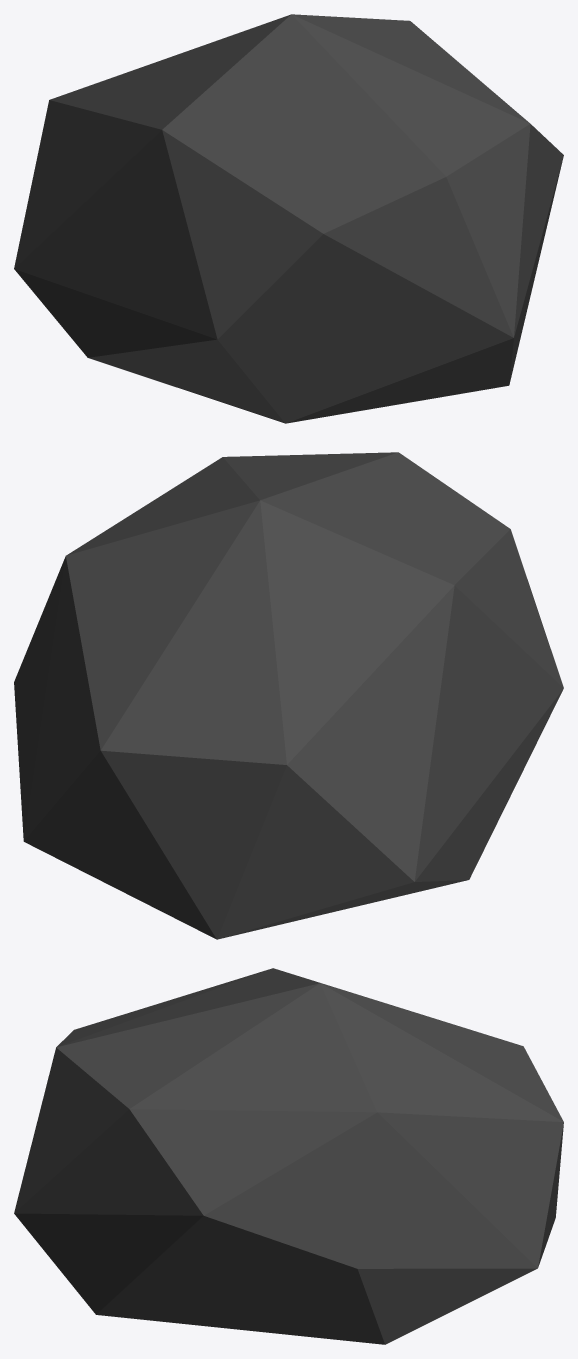
Rendered from Rock1.obj.
The picture shows the model from 3 angles, top to bottom: view 1: azimuth 30°, elevation 25°; view 2: azimuth 150°, elevation 25°; view 3: azimuth 270°, elevation 25°; orthographic projection. The views are drawn at different scales.
Visible parts, largest first — view 1: Rock; view 2: Rock; view 3: Rock.
Part boxes in pixels (x1,y1,x2,y2): Rock: (14, 14, 563, 423); Rock: (14, 452, 563, 939); Rock: (14, 968, 563, 1344).
Size of the model in its own units: 2.14 by 1.5 by 2.6.
Materials: 1 (1 with a texture image).
